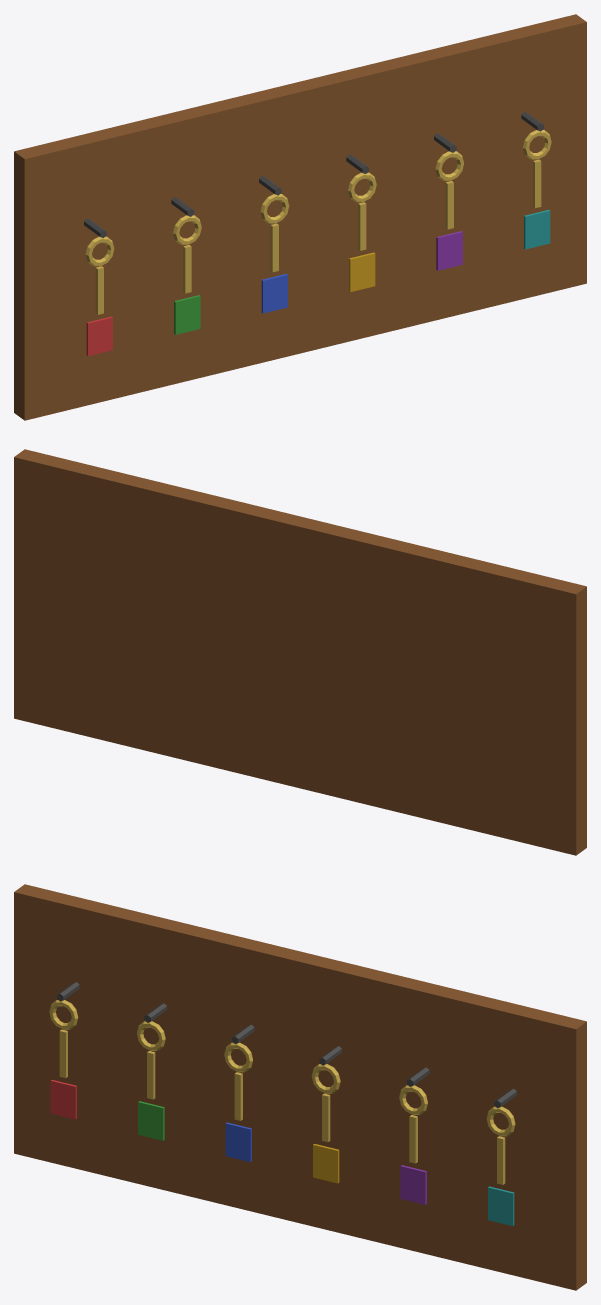
File: key_board.glb
The picture shows the model from 3 angles, top to bottom: view 1: azimuth 30°, elevation 25°; view 2: azimuth 150°, elevation 25°; view 3: azimuth 330°, elevation 25°; orthographic projection.
Visible parts, largest first — view 1: board_key_board_wood, board_key_hook, key_0_key_brass, key_1_key_brass, key_5_key_brass, key_2_key_brass, key_3_key_brass, key_0, key_4_key_brass, key_2, key_3, key_4 (+2 smaller); view 2: board_key_board_wood; view 3: board_key_board_wood, board_key_hook, key_5_key_brass, key_0_key_brass, key_4_key_brass, key_2_key_brass, key_3_key_brass, key_1_key_brass, key_5, key_0, key_1, key_2 (+2 smaller).
Boxes of the visible parts, <box> form: board_key_board_wood: <box>14,14,586,420</box>; board_key_hook: <box>84,112,543,238</box>; key_0_key_brass: <box>85,236,114,314</box>; key_1_key_brass: <box>173,215,201,293</box>; key_5_key_brass: <box>522,130,551,208</box>; key_2_key_brass: <box>260,194,289,271</box>; key_3_key_brass: <box>348,172,376,250</box>; key_0: <box>86,316,112,356</box>; key_4_key_brass: <box>435,151,463,229</box>; key_2: <box>261,274,287,313</box>; key_3: <box>349,252,375,291</box>; key_4: <box>436,231,462,270</box>; board_key_board_wood: <box>14,449,586,855</box>; board_key_board_wood: <box>14,884,586,1290</box>; board_key_hook: <box>57,982,516,1108</box>; key_5_key_brass: <box>486,1106,515,1184</box>; key_0_key_brass: <box>49,1000,78,1078</box>; key_4_key_brass: <box>399,1085,427,1163</box>; key_2_key_brass: <box>224,1042,252,1120</box>; key_3_key_brass: <box>311,1064,340,1141</box>; key_1_key_brass: <box>137,1021,165,1099</box>; key_5: <box>488,1186,514,1226</box>; key_0: <box>50,1080,76,1119</box>; key_1: <box>138,1101,164,1140</box>; key_2: <box>225,1122,251,1161</box>.
Size of the model in its own units: 0.9 by 0.4 by 0.075.
